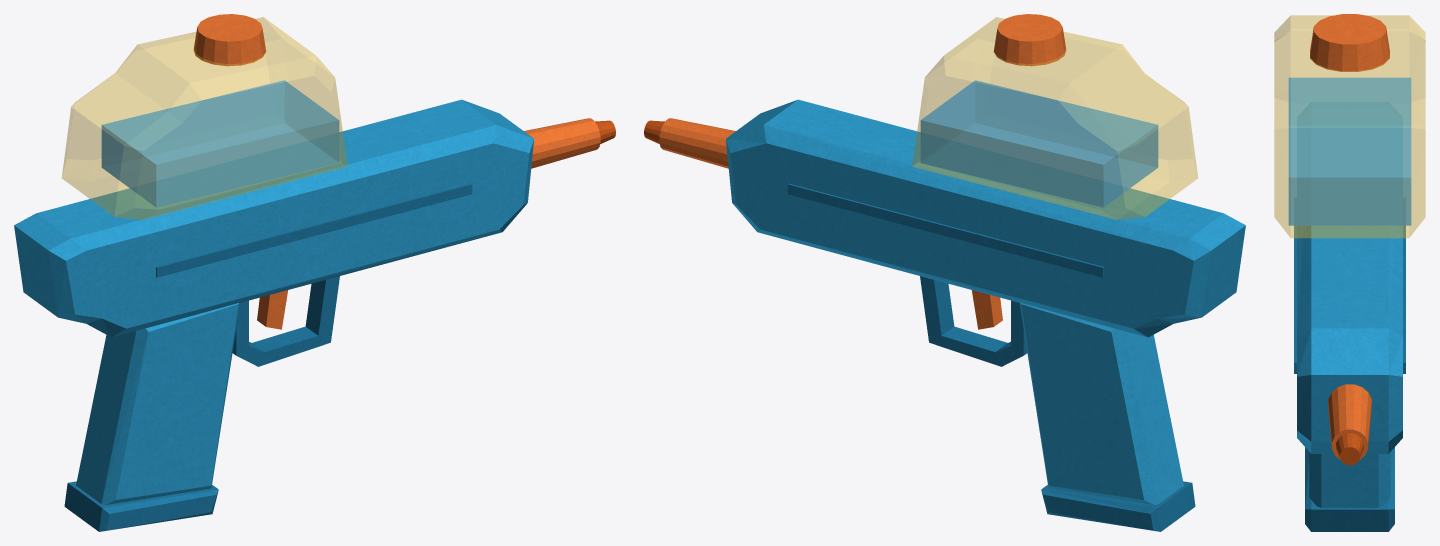
Rendered from minnow_v2.glb.
The picture shows the model from 3 angles, left to right: view 1: azimuth 30°, elevation 25°; view 2: azimuth 150°, elevation 25°; view 3: azimuth 270°, elevation 25°; orthographic projection. The views are drawn at different scales.
Parts seen in each view (by area): view 1: body, water; view 2: body, water; view 3: body, water.
Part boxes in pixels (<box>): body: <box>14,14,615,531</box>; water: <box>101,80,339,207</box>; body: <box>644,14,1245,531</box>; water: <box>920,80,1158,207</box>; body: <box>1274,14,1425,531</box>; water: <box>1288,77,1411,225</box>.
Size of the model in its own units: 0.368 by 0.282 by 0.074.
Materials: 6 (4 with a texture image).
